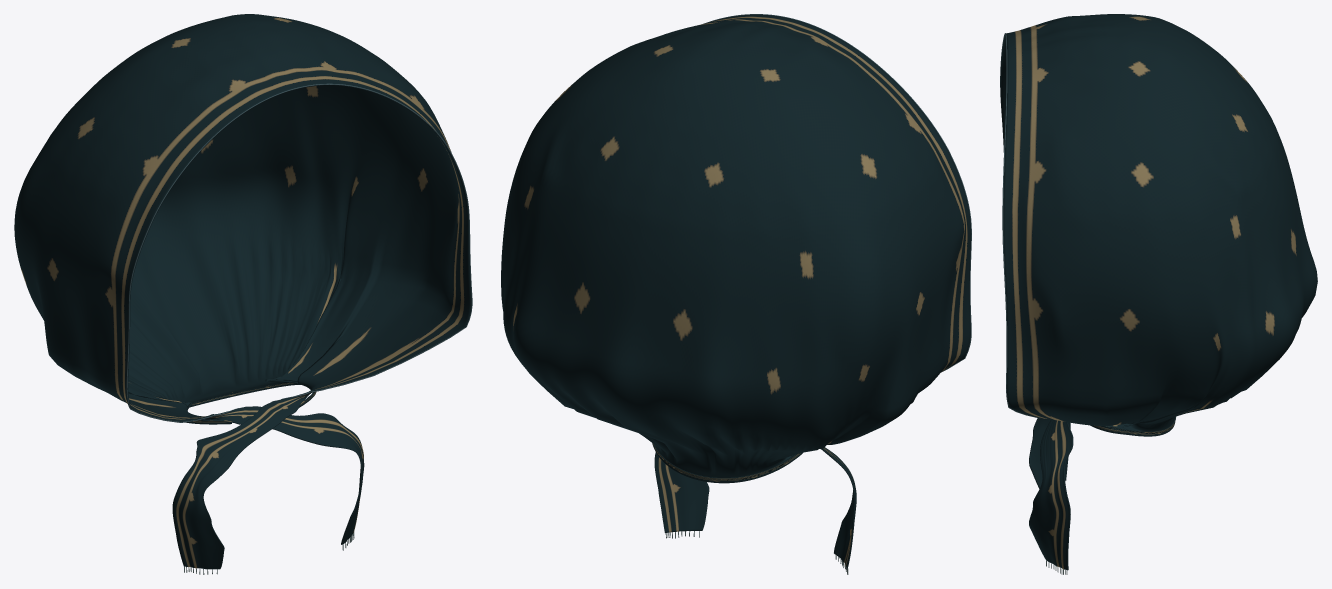
The model's file is Feminine-bob-bandeau-pashmina249-headgear.glb.
The picture shows the model from 3 angles, left to right: view 1: azimuth 30°, elevation 25°; view 2: azimuth 150°, elevation 25°; view 3: azimuth 270°, elevation 25°; orthographic projection. The views are drawn at different scales.
Parts seen in each view (by area): view 1: 226 headgear / Headwear / continuous woven pashmina239, 226 headgear / Headwear / face edge239; view 2: 226 headgear / Headwear / continuous woven pashmina239, 226 headgear / Headwear / face edge239; view 3: 226 headgear / Headwear / continuous woven pashmina239, 226 headgear / Headwear / face edge239.
Part boxes in pixels (x1,y1,x2,y2): 226 headgear / Headwear / continuous woven pashmina239: (14,14,471,569); 226 headgear / Headwear / face edge239: (126,83,472,422); 226 headgear / Headwear / continuous woven pashmina239: (501,14,971,568); 226 headgear / Headwear / face edge239: (703,14,971,372); 226 headgear / Headwear / continuous woven pashmina239: (1000,14,1317,570); 226 headgear / Headwear / face edge239: (1000,33,1043,418).
Size of the model in its own units: 1.08 by 1.41 by 0.806.
3 materials, 1 textured.
